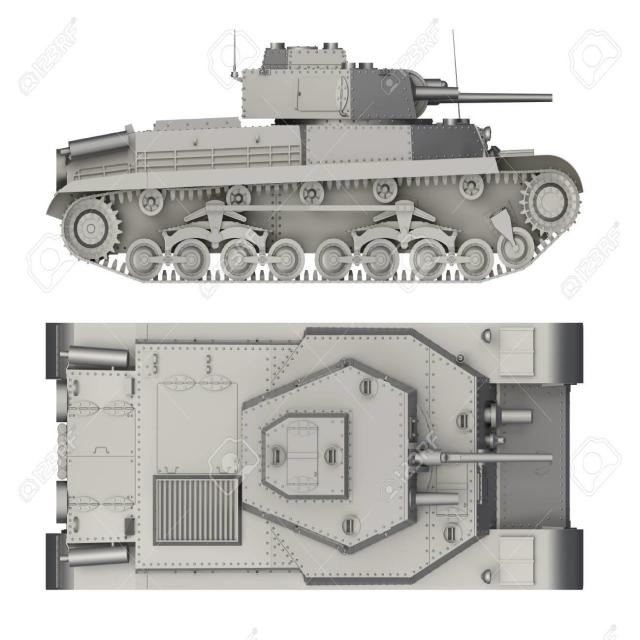Tanks: (42, 321, 591, 600), (39, 22, 582, 296)
